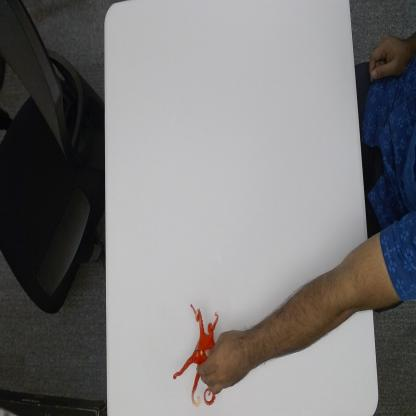Arm: (253, 232, 380, 371)
Hand: (195, 326, 253, 397)
Octopus: (172, 301, 222, 408)
